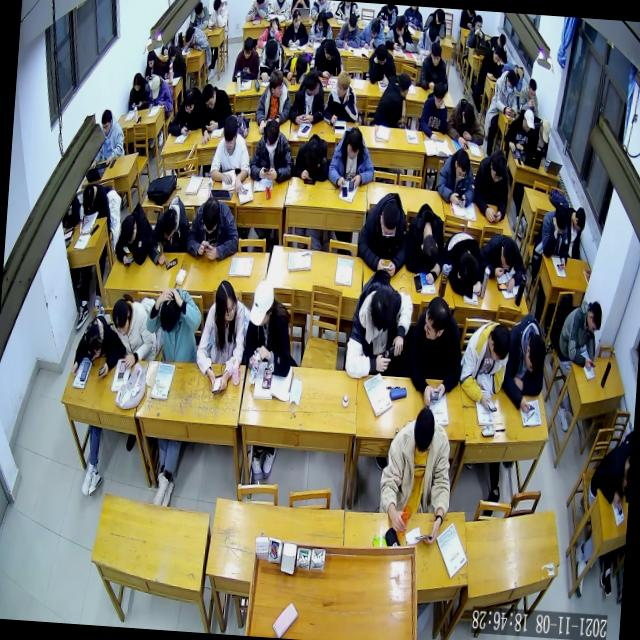bow: (501, 312, 548, 412), (70, 313, 126, 380), (402, 202, 447, 284), (146, 196, 190, 266), (440, 228, 484, 294), (478, 233, 527, 292), (113, 204, 154, 268), (196, 82, 232, 146), (445, 96, 486, 150), (292, 130, 330, 180), (169, 86, 203, 137), (384, 14, 416, 52), (358, 15, 386, 46), (282, 53, 310, 83), (257, 16, 283, 48), (183, 22, 210, 52), (188, 0, 209, 28)
down: (248, 280, 274, 326), (369, 286, 394, 332), (413, 404, 435, 452), (157, 292, 180, 334), (488, 323, 510, 363), (524, 332, 546, 372), (109, 298, 130, 336), (200, 195, 220, 232), (378, 200, 397, 237), (84, 322, 102, 358), (260, 119, 278, 153), (586, 300, 603, 335), (344, 125, 362, 158), (120, 213, 138, 246), (222, 114, 238, 151), (488, 151, 506, 183), (160, 208, 177, 240), (452, 150, 468, 182), (303, 138, 320, 168), (499, 238, 516, 268), (553, 203, 567, 235), (200, 84, 217, 110), (432, 80, 445, 109), (322, 38, 337, 61), (82, 182, 95, 208), (573, 206, 586, 232), (504, 67, 517, 93), (460, 104, 474, 128), (100, 108, 112, 134), (374, 42, 387, 66), (429, 41, 442, 65), (182, 88, 194, 113), (539, 117, 551, 142), (522, 109, 535, 132), (242, 35, 253, 57), (394, 14, 405, 36), (150, 75, 160, 99), (265, 40, 277, 60), (369, 16, 380, 37), (294, 55, 306, 74), (290, 8, 302, 26), (132, 70, 142, 90), (146, 48, 156, 68), (184, 24, 194, 44), (268, 16, 278, 36), (492, 44, 502, 64), (347, 12, 357, 31), (428, 24, 438, 43), (193, 0, 203, 18), (528, 78, 536, 100), (167, 45, 176, 63), (316, 10, 324, 28), (212, 0, 221, 11)
lookup: (473, 13, 482, 32)
sit: (375, 403, 456, 547), (343, 268, 414, 381), (404, 294, 466, 406), (192, 276, 248, 394), (240, 278, 296, 378), (457, 318, 511, 412), (355, 190, 409, 278), (143, 284, 203, 361), (185, 195, 240, 262), (208, 114, 252, 193), (107, 298, 155, 370), (556, 298, 602, 370), (327, 126, 376, 189), (248, 119, 294, 183), (472, 147, 510, 221), (254, 68, 292, 134), (436, 148, 476, 208), (536, 202, 571, 270), (321, 70, 359, 126), (287, 70, 325, 126), (372, 72, 410, 126), (418, 80, 450, 142), (98, 105, 126, 162), (419, 42, 450, 92), (308, 38, 344, 79), (502, 107, 534, 152), (490, 68, 520, 115), (80, 182, 112, 226), (230, 34, 259, 80), (367, 42, 398, 84), (256, 36, 284, 82), (564, 205, 586, 258), (280, 6, 310, 44), (334, 10, 362, 48), (147, 72, 173, 110), (160, 44, 187, 80), (516, 77, 540, 116), (479, 44, 503, 80), (128, 72, 151, 109), (416, 24, 442, 56), (531, 117, 551, 158), (308, 11, 333, 43), (467, 12, 486, 48), (144, 48, 164, 80), (206, 0, 228, 29)
